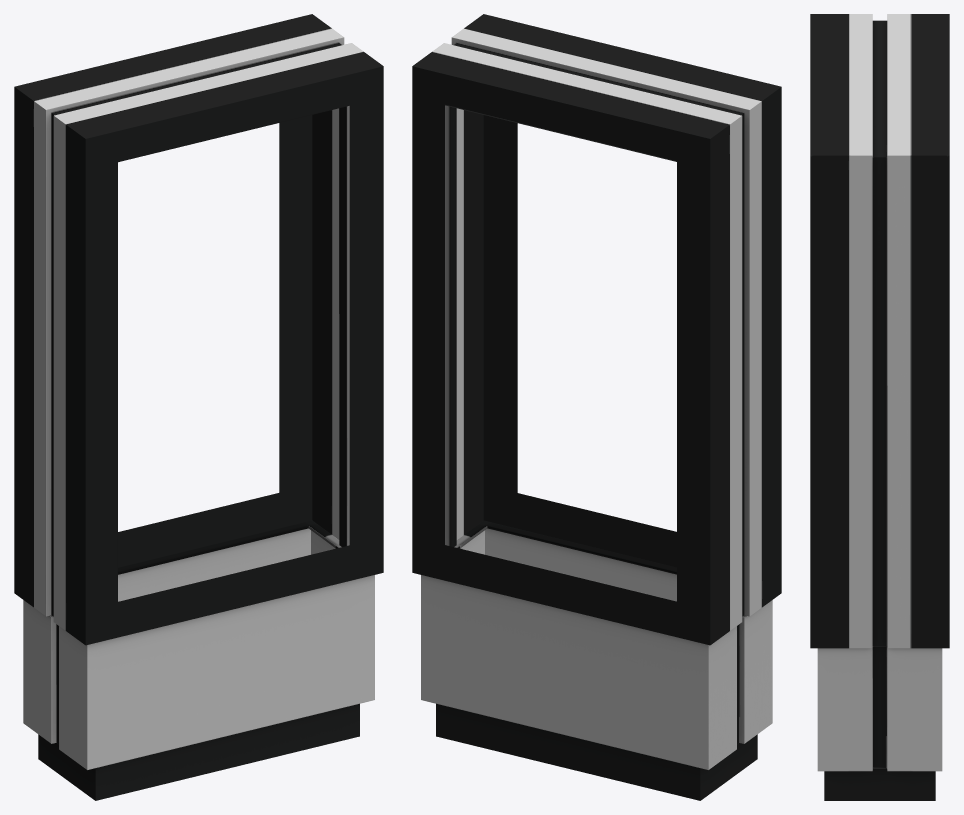
The model's file is SM_PannelV1_Frame5.fbx.
3 renders of one model, left to right at view 1: azimuth 30°, elevation 25°; view 2: azimuth 150°, elevation 25°; view 3: azimuth 270°, elevation 25°, orthographic. The views are drawn at different scales.
Visible parts, largest first — view 1: SM_PannelV1_Frame5_LOD0; view 2: SM_PannelV1_Frame5_LOD0; view 3: SM_PannelV1_Frame5_LOD0.
Part boxes in pixels (x1,y1,x2,y2): SM_PannelV1_Frame5_LOD0: [14, 14, 383, 800]; SM_PannelV1_Frame5_LOD0: [412, 14, 781, 800]; SM_PannelV1_Frame5_LOD0: [810, 14, 949, 800].
Bounding box in the file's own units: 89.82 × 37.27 × 193.
1 material, 1 textured.
